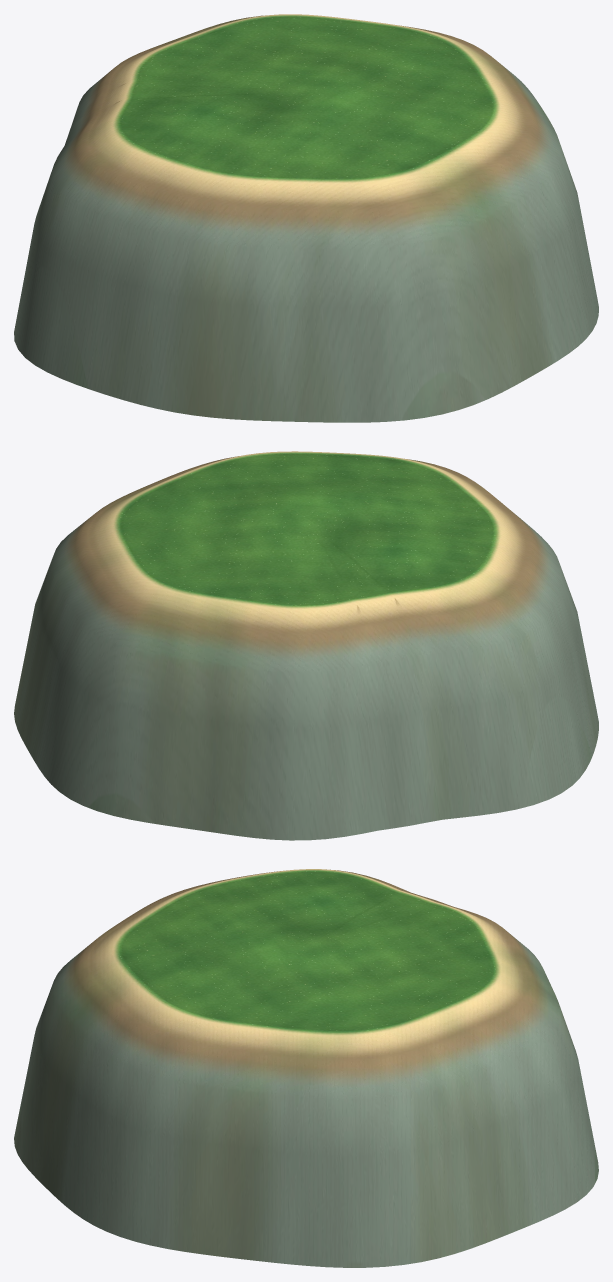
File: flat_1.glb
The picture shows the model from 3 angles, top to bottom: view 1: azimuth 30°, elevation 25°; view 2: azimuth 150°, elevation 25°; view 3: azimuth 270°, elevation 25°; orthographic projection. The views are drawn at different scales.
Parts seen in each view (by area): view 1: flat_1; view 2: flat_1; view 3: flat_1.
Part boxes in pixels (left/top/right/bottom): flat_1: left=14, top=14, right=598, bottom=422; flat_1: left=14, top=451, right=598, bottom=840; flat_1: left=14, top=869, right=598, bottom=1267.
Bounding box in the file's own units: 32.23 × 12.23 × 31.83.
1 material, 1 textured.
